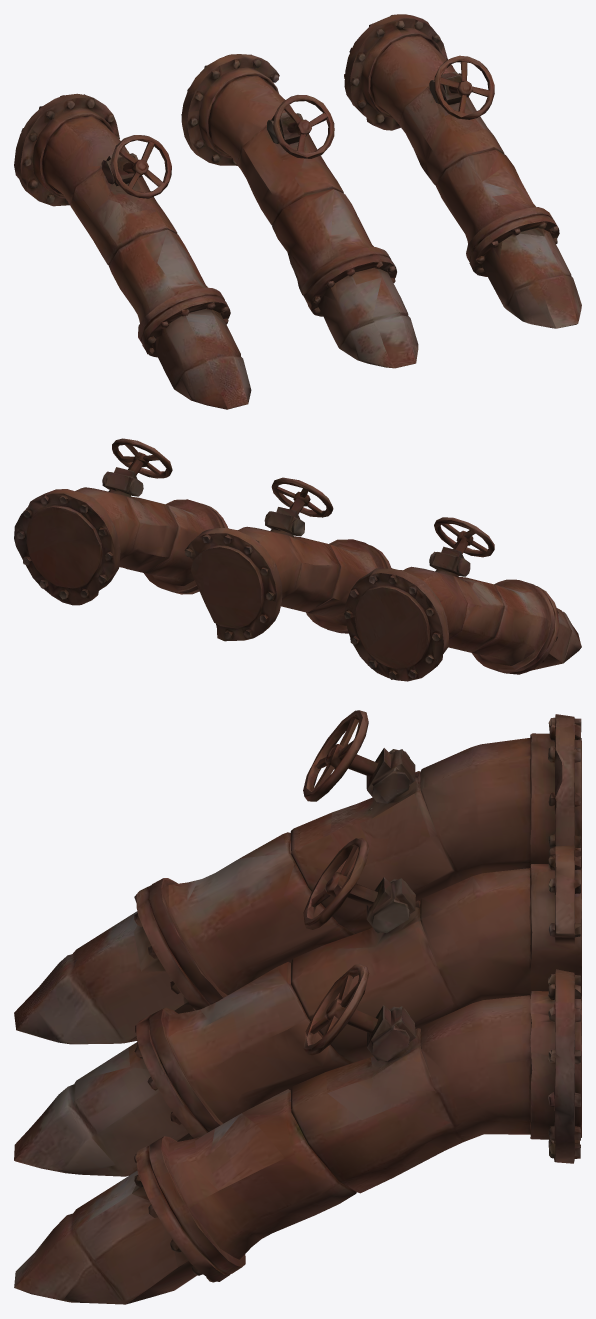
Rendered from ruin_pipe_burst_idle.glb.
3 renders of one model, top to bottom at view 1: azimuth 30°, elevation 25°; view 2: azimuth 150°, elevation 25°; view 3: azimuth 270°, elevation 25°, orthographic. The views are drawn at different scales.
Parts seen in each view (by area): view 1: tripo_node_84e6fc90-af06-425d-8e72-684d1c75ce38; view 2: tripo_node_84e6fc90-af06-425d-8e72-684d1c75ce38; view 3: tripo_node_84e6fc90-af06-425d-8e72-684d1c75ce38.
Part boxes in pixels (left/top/right/bottom): tripo_node_84e6fc90-af06-425d-8e72-684d1c75ce38: left=14, top=14, right=581, bottom=409; tripo_node_84e6fc90-af06-425d-8e72-684d1c75ce38: left=14, top=438, right=581, bottom=681; tripo_node_84e6fc90-af06-425d-8e72-684d1c75ce38: left=14, top=710, right=581, bottom=1304.
Size of the model in its own units: 2.35 by 1 by 1.67.
1 material, 1 textured.
